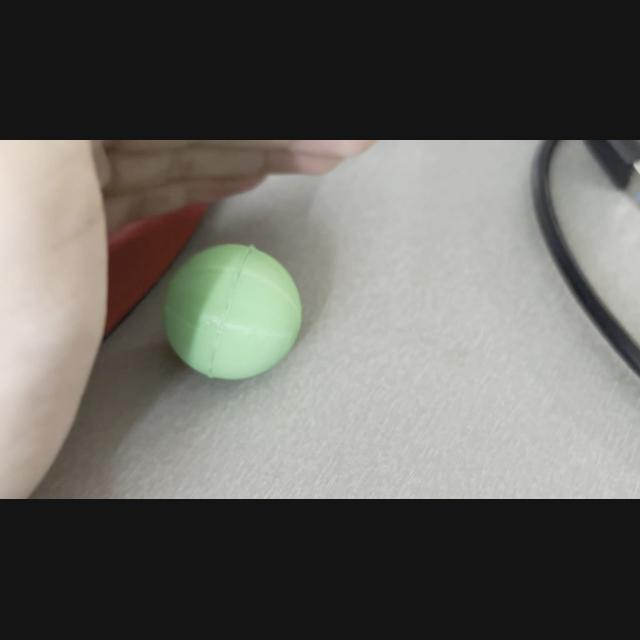objects: (156, 240, 306, 384)
